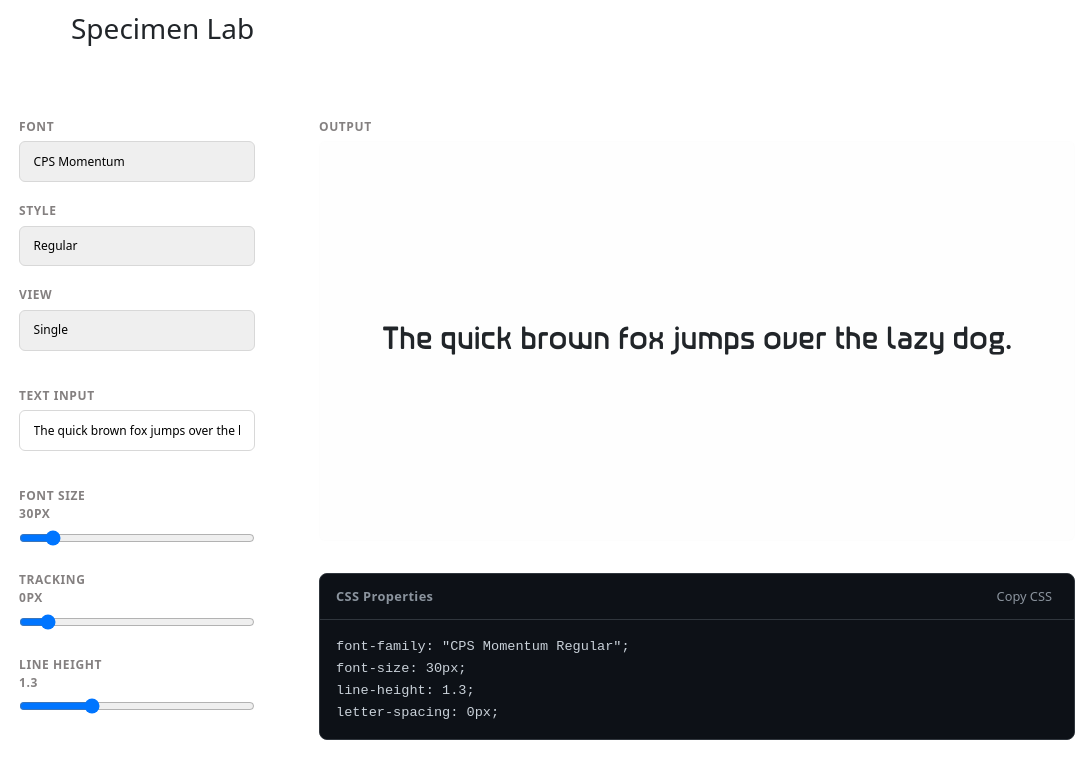
Test: TypeTester › changing the font updates the available styles
Select "CPS Semillas" in the dropdown labelled "Font". click: (137, 162)
box: 19,141 -> 255,182
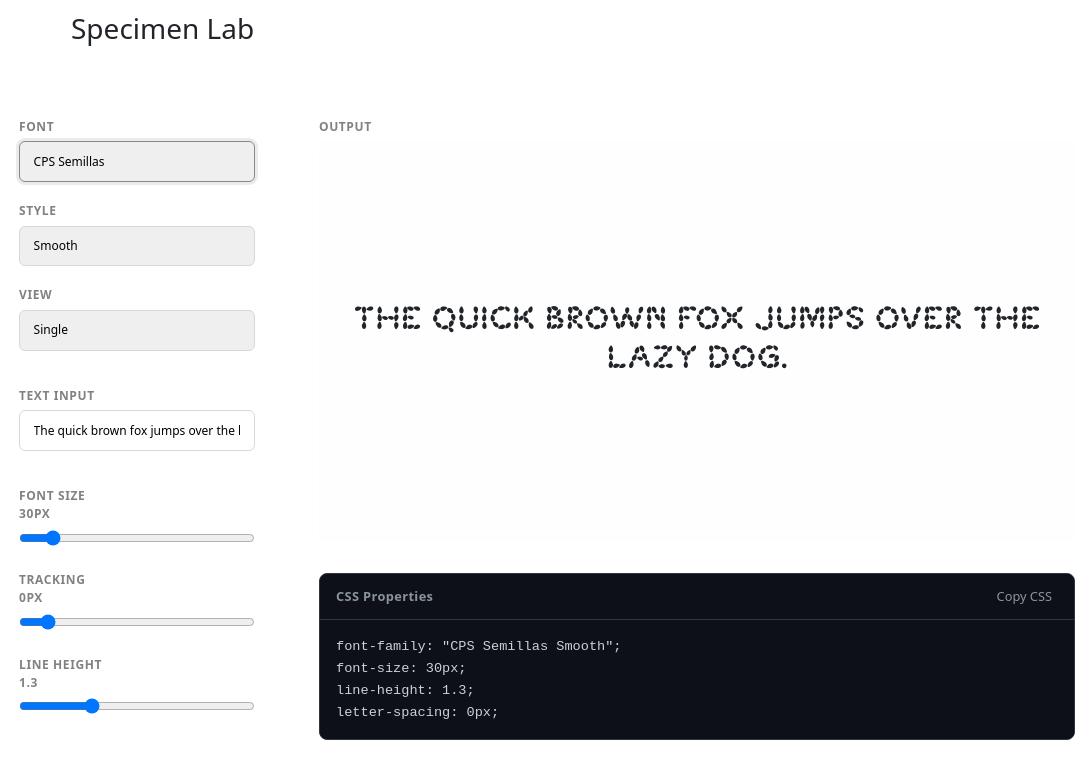
Expected: the dropdown labelled "Style" shows "Smooth", 19,226 -> 255,266
